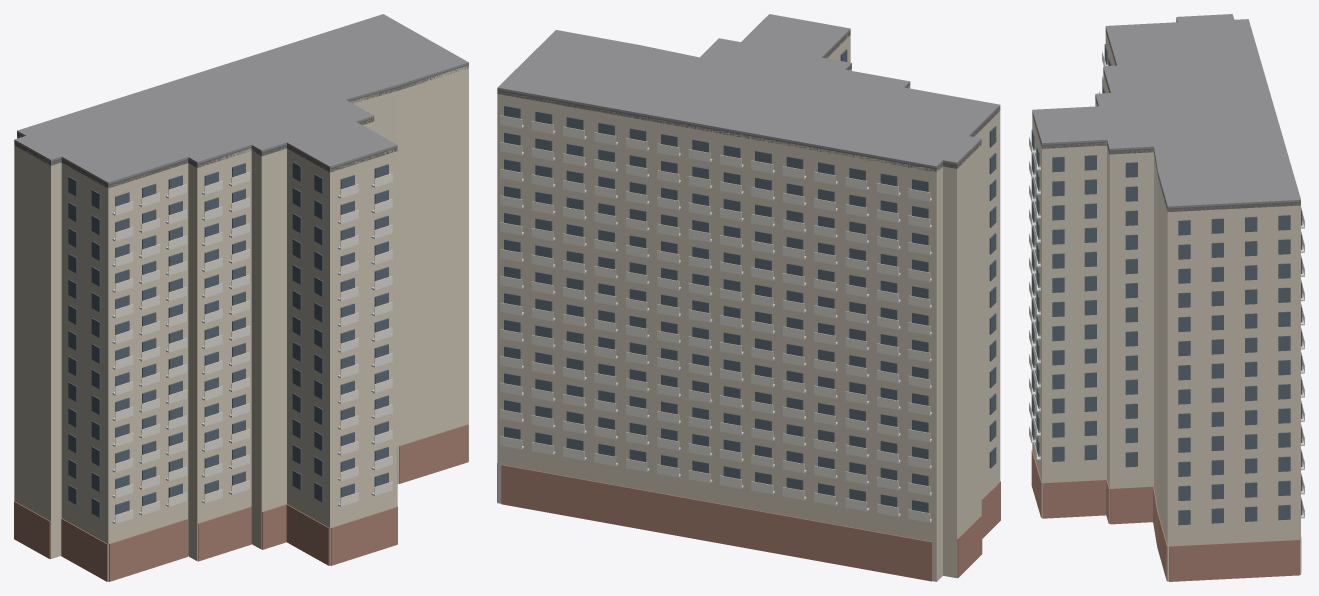
The model's file is d_regency_tower.glb.
The picture shows the model from 3 angles, left to right: view 1: azimuth 30°, elevation 25°; view 2: azimuth 150°, elevation 25°; view 3: azimuth 270°, elevation 25°; orthographic projection. The views are drawn at different scales.
Visible parts, largest first — view 1: mass, roofcap, base_7, base_18, base_13, cornice, base_9, base_6, base_12, base_4, base_11; view 2: mass, roofcap, base_1, cornice, base_4, base_6; view 3: mass, roofcap, base_0, base_14, base_16, cornice, base_18, base_13.
Boxes of the visible parts, box(x1,y1,x2,y2) form: mass: box(14, 65, 468, 581); roofcap: box(14, 14, 468, 184); base_7: box(109, 519, 187, 581); base_18: box(399, 424, 468, 483); base_13: box(330, 507, 397, 565); cornice: box(14, 64, 468, 188); base_9: box(198, 506, 251, 561); base_6: box(61, 518, 107, 581); base_12: box(286, 504, 329, 565); base_4: box(14, 501, 50, 558); base_11: box(262, 504, 286, 549); mass: box(497, 35, 1000, 581); roofcap: box(497, 14, 1000, 168); base_1: box(501, 465, 932, 581); cornice: box(497, 31, 1000, 171); base_4: box(957, 515, 982, 577); base_6: box(981, 481, 1000, 538); mass: box(1032, 21, 1300, 581); roofcap: box(1032, 14, 1300, 208); base_0: box(1169, 539, 1299, 581); base_14: box(1042, 479, 1106, 518); base_16: box(1110, 486, 1153, 524); cornice: box(1032, 19, 1300, 211); base_18: box(1157, 512, 1167, 581); base_13: box(1031, 450, 1041, 517).
Bounding box in the file's own units: 51.48 × 46.62 × 31.08.
